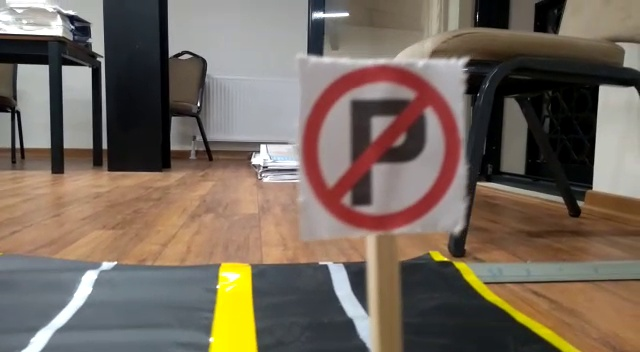park_yapilmaz: (300, 58, 460, 232)
